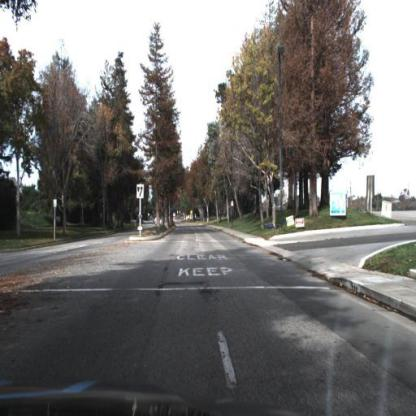car: (156, 218, 164, 227)
